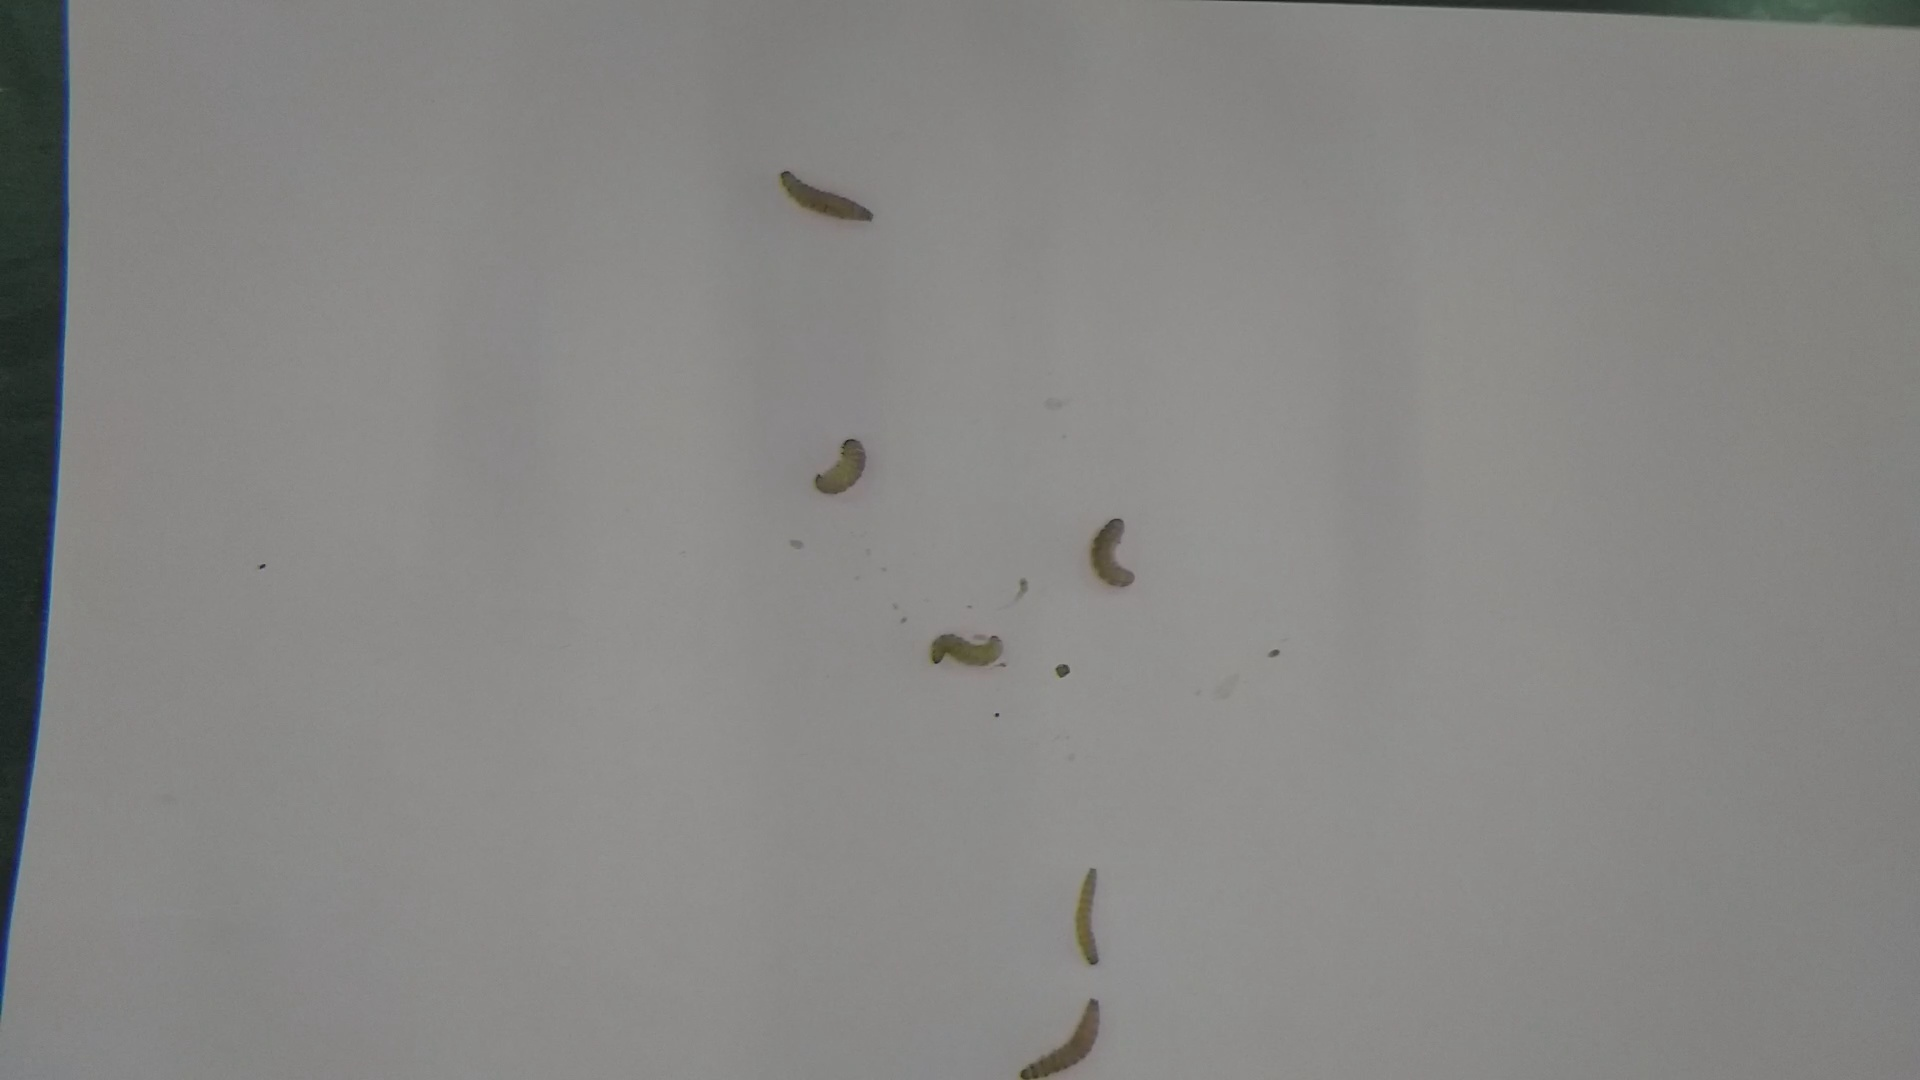efsb: (1017, 996, 1108, 1080), (771, 167, 880, 225), (1072, 864, 1113, 971), (928, 625, 1007, 676), (1088, 510, 1134, 596), (808, 433, 873, 492)
